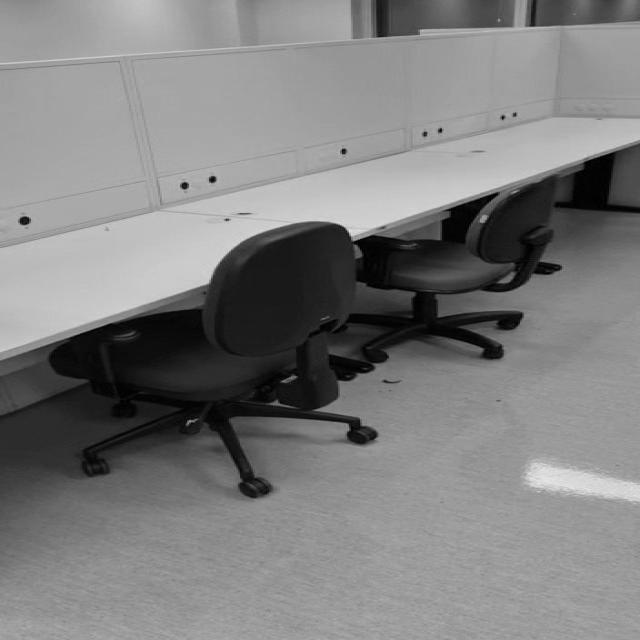chair: (46, 220, 380, 500)
